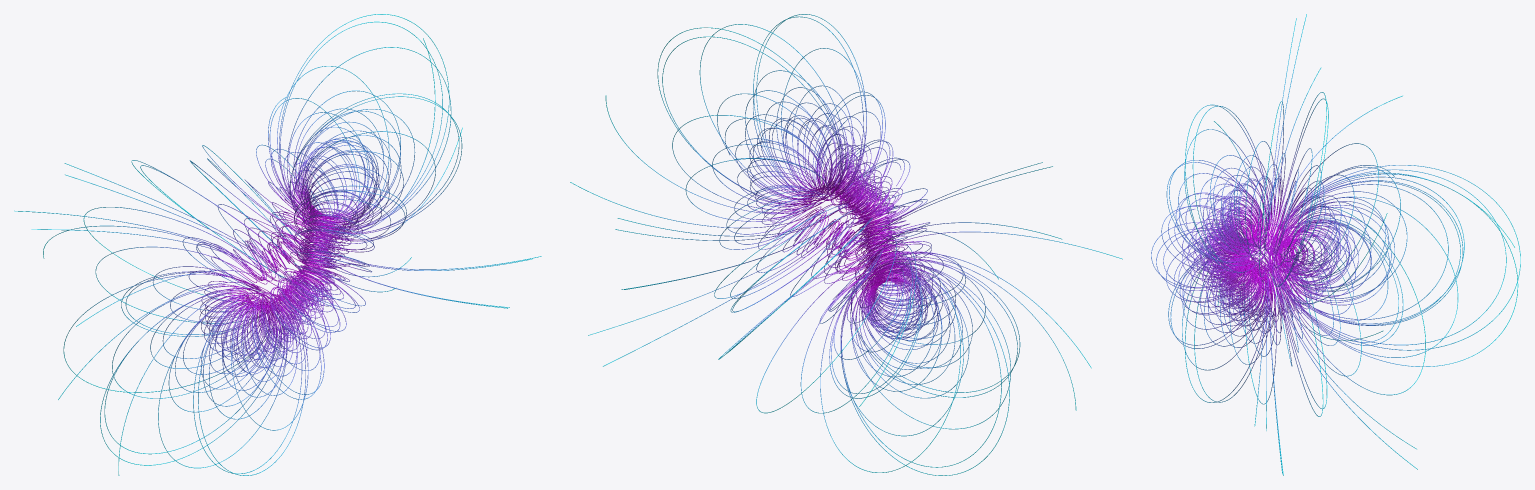
The model's file is global_field_lines.gltf.
3 views of the same model, side by side, from view 1: azimuth 30°, elevation 25°; view 2: azimuth 150°, elevation 25°; view 3: azimuth 270°, elevation 25° (orthographic).
Visible parts, largest first — view 1: Renderer Node; view 2: Renderer Node; view 3: Renderer Node.
Part boxes in pixels (x1=…): Renderer Node: x1=14, y1=14, x2=541, y2=475; Renderer Node: x1=570, y1=14, x2=1122, y2=475; Renderer Node: x1=1151, y1=14, x2=1520, y2=475.
Size of the model in its own units: 1.47 by 1.15 by 0.9522.
1 material, 1 textured.
